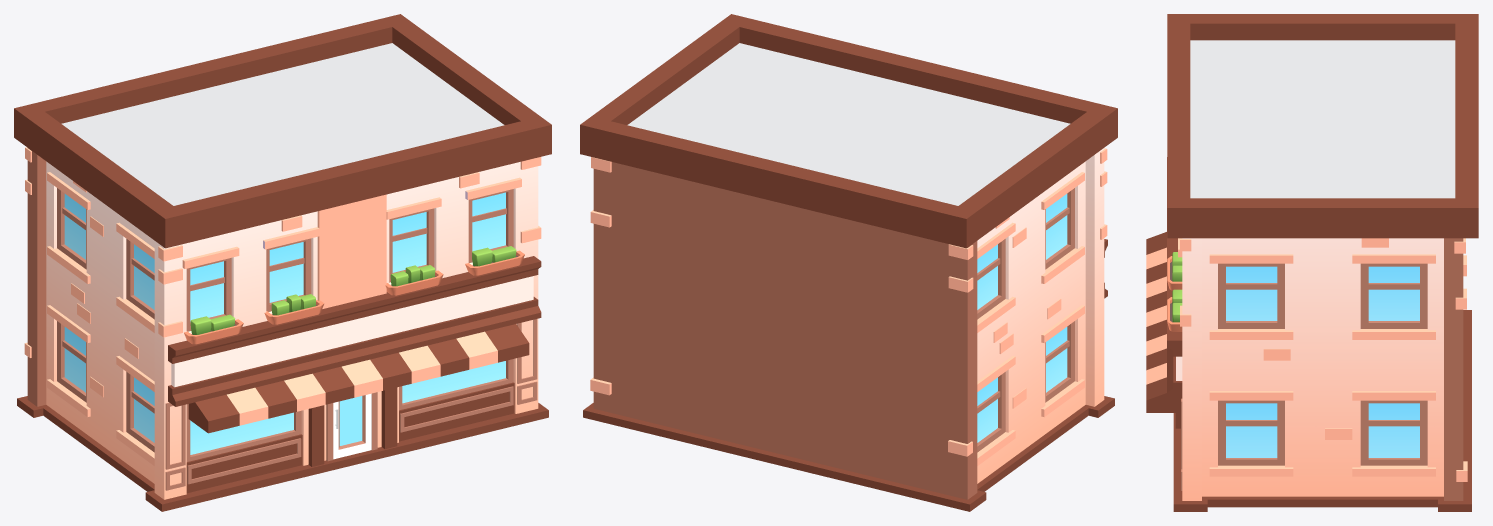
File: city2-building-living-21.glb
3 renders of one model, left to right at view 1: azimuth 30°, elevation 25°; view 2: azimuth 150°, elevation 25°; view 3: azimuth 270°, elevation 25°, orthographic. The views are drawn at different scales.
Visible parts, largest first — view 1: Building_Living_21; view 2: Building_Living_21; view 3: Building_Living_21.
Boxes of the visible parts, x1,y1,x2,y2 form: Building_Living_21: (14,14,551,511); Building_Living_21: (580,14,1117,511); Building_Living_21: (1146,14,1478,511).
Size of the model in its own units: 10.86 by 7.92 by 7.85.
Materials: 1 (1 with a texture image).
